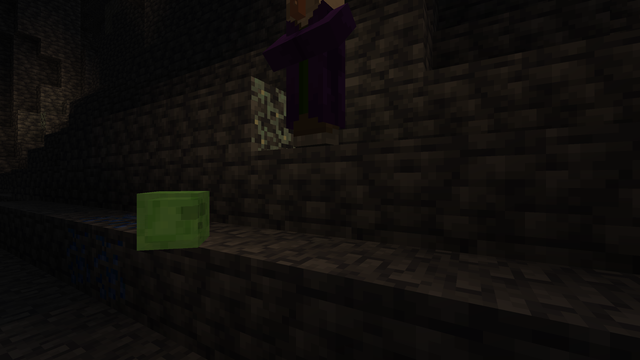slimes: (134, 188, 216, 251)
sorcieres: (277, 0, 349, 150)
